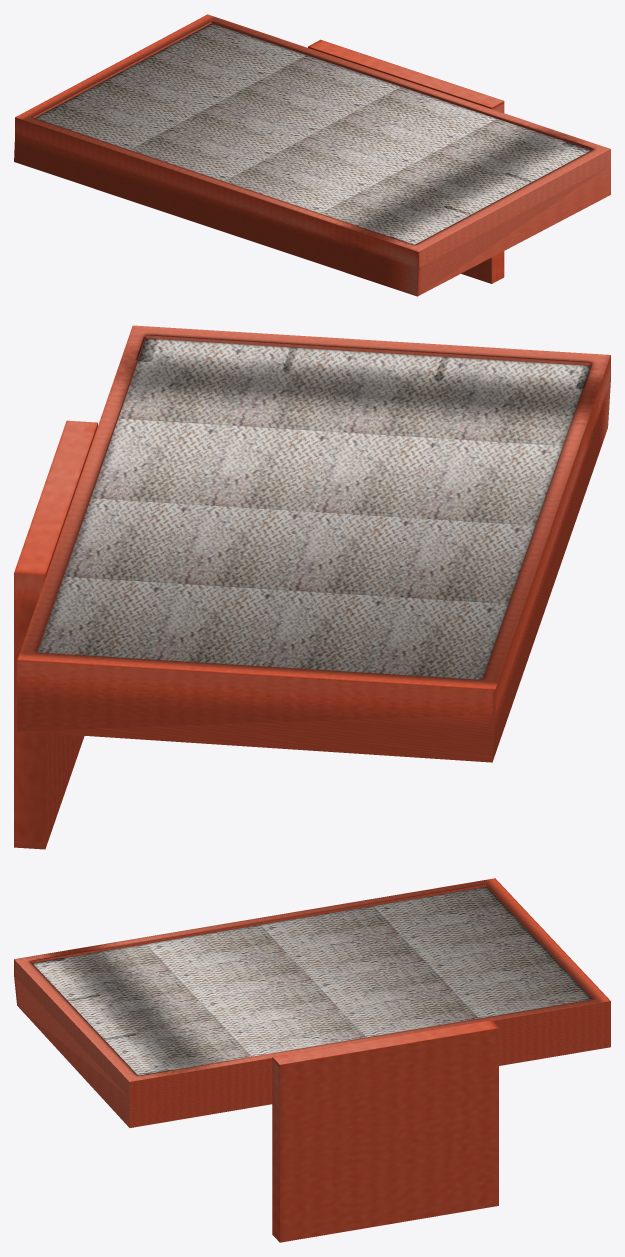
Rendered from kure-n5-ashiba.obj.
3 views of the same model, one above another, from view 1: azimuth 30°, elevation 25°; view 2: azimuth 150°, elevation 25°; view 3: azimuth 270°, elevation 25° (orthographic). The views are drawn at different scales.
Size of the model in its own units: 7.26 by 2.95 by 8.99.
Materials: 1 (1 with a texture image).
